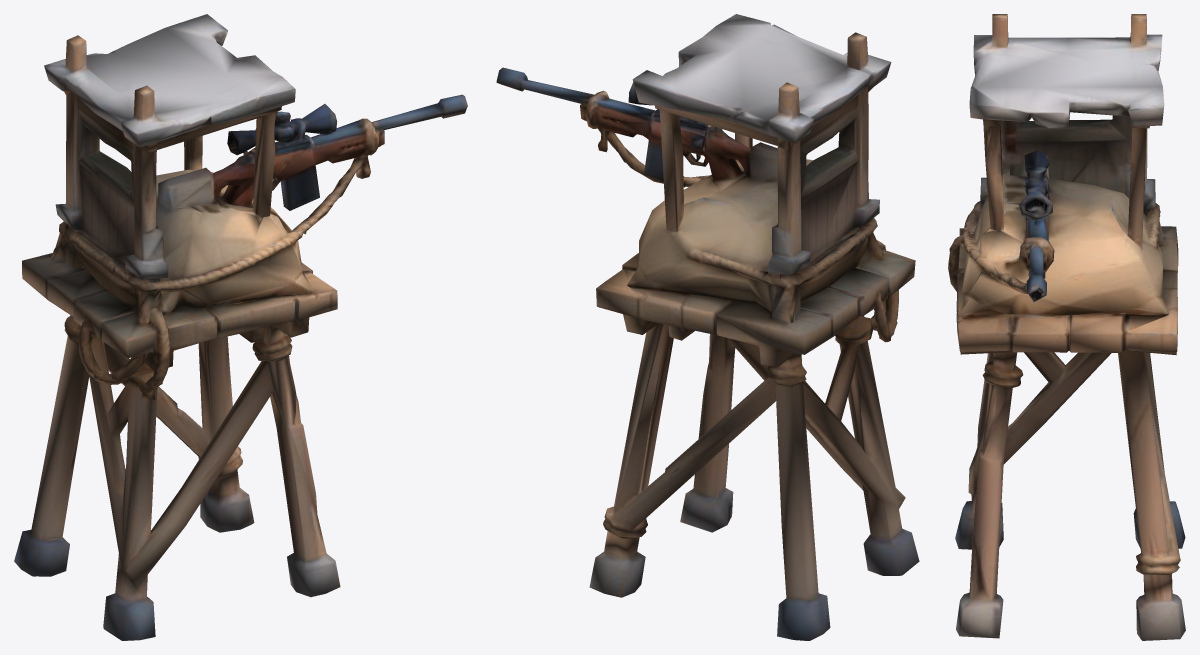
File: jujita-1.glb
3 renders of one model, left to right at view 1: azimuth 30°, elevation 25°; view 2: azimuth 150°, elevation 25°; view 3: azimuth 270°, elevation 25°, orthographic.
Parts seen in each view (by area): view 1: node_0; view 2: node_0; view 3: node_0.
Boxes of the visible parts, x1=… form: node_0: x1=14, y1=14, x2=467, y2=640; node_0: x1=496, y1=14, x2=919, y2=640; node_0: x1=948, y1=14, x2=1185, y2=640.
Bounding box in the file's own units: 0.7053 × 0.9296 × 0.3718.
1 material, 1 textured.
